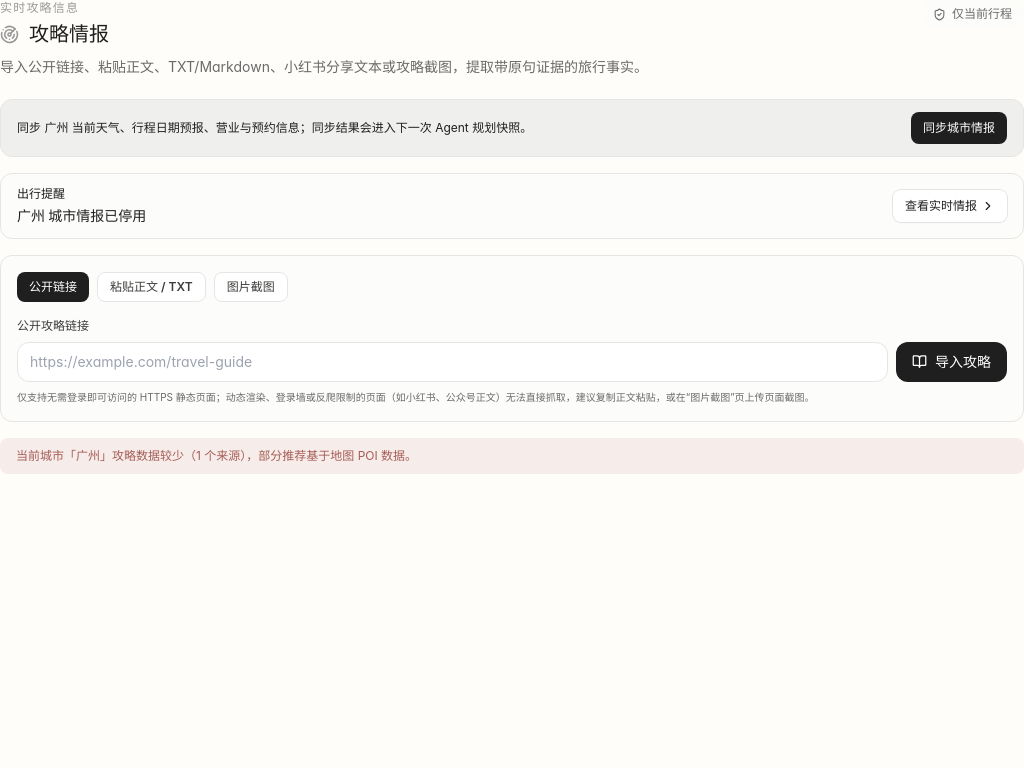
Test case: uses only the newest enabled city intelligence import
Click the button "查看实时情报": (950, 206) 893,190 -> 1007,222
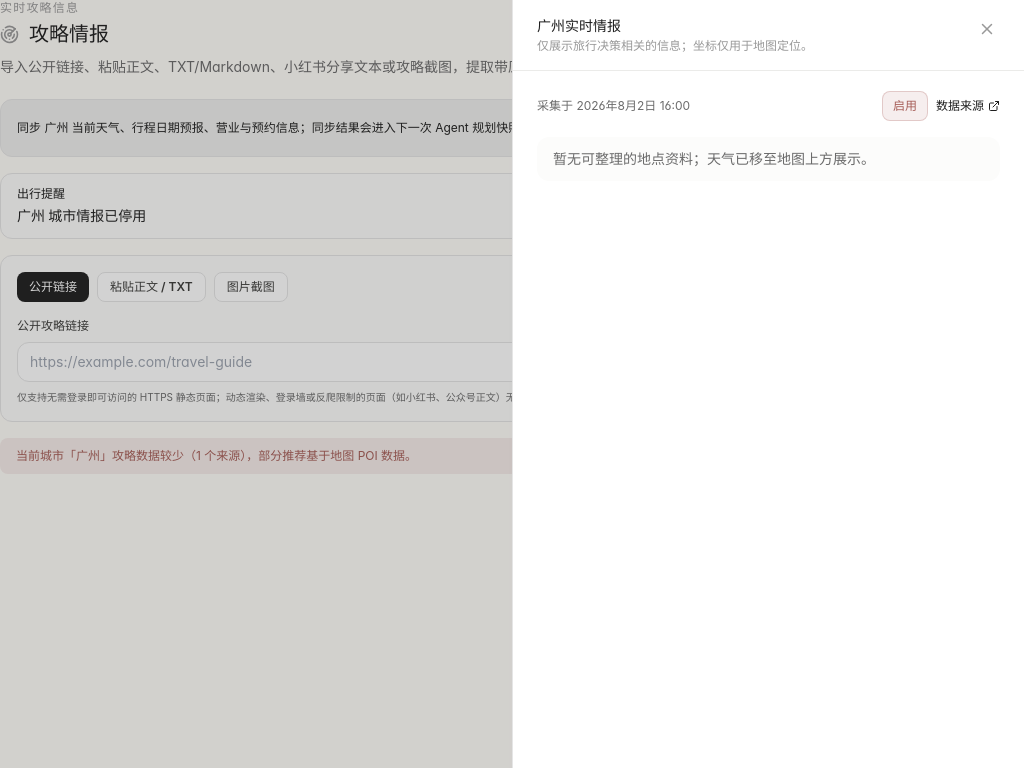
Check: the button with aria-label "启用城市情报" is shown, box 882,91 -> 928,121
